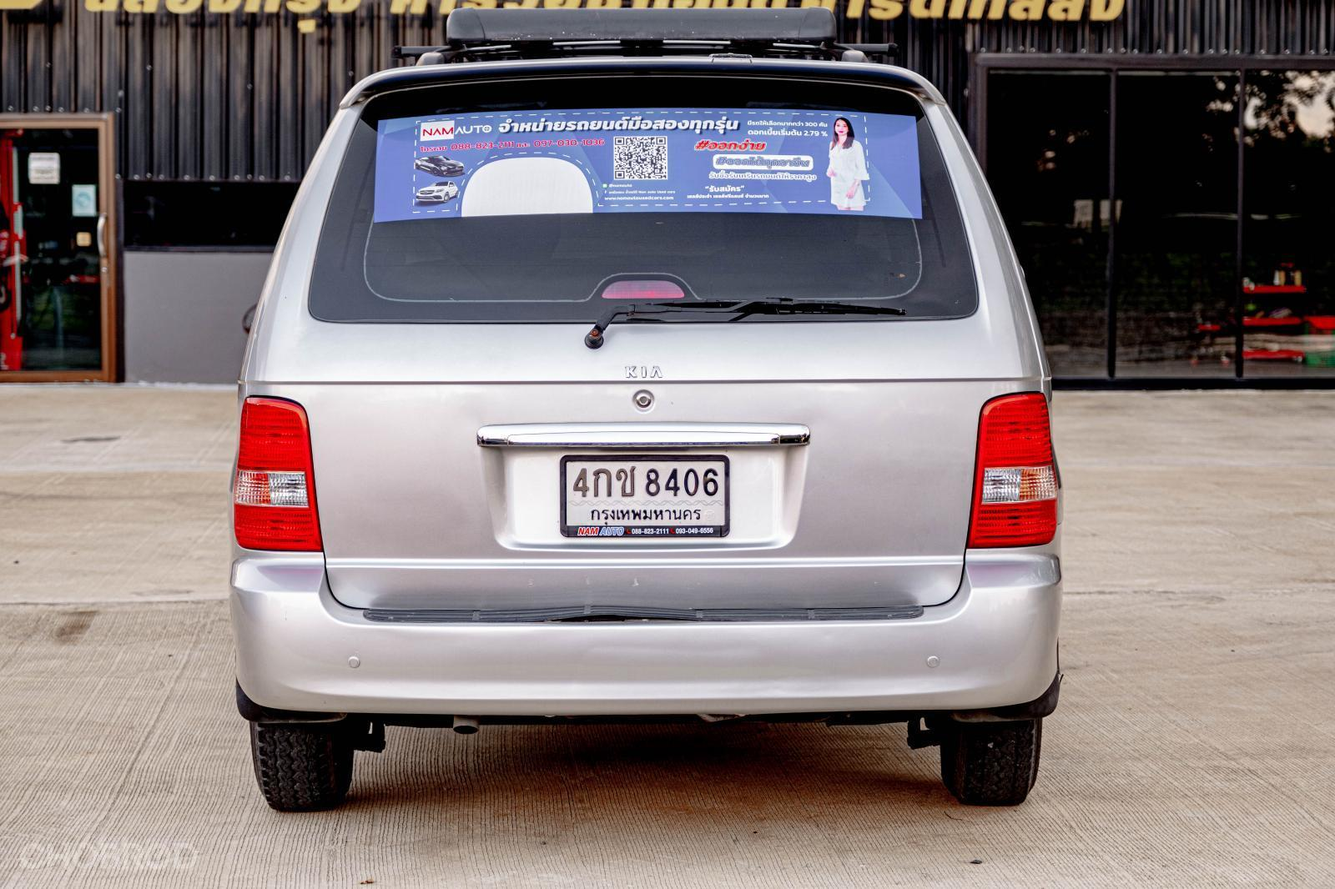license-plate: (558, 453, 729, 543)
